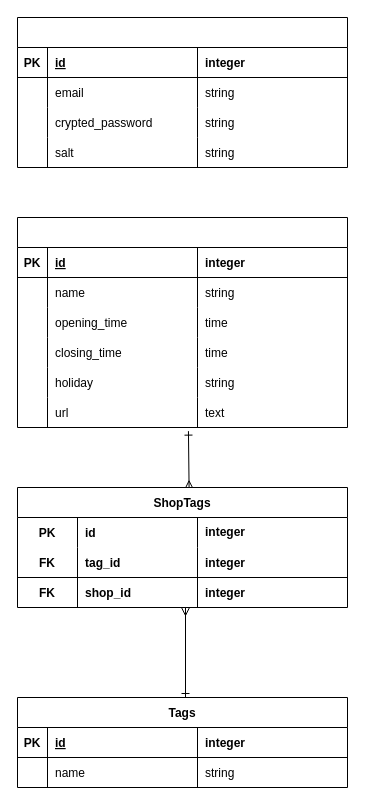
Some shapes in this 365 by 805 pixel diagram are drawn without their labels. Here are the shapes that lost their labels. From the top down, the box of each, then its label:
(16, 16, 348, 168): Admins
(16, 216, 348, 428): Shops
